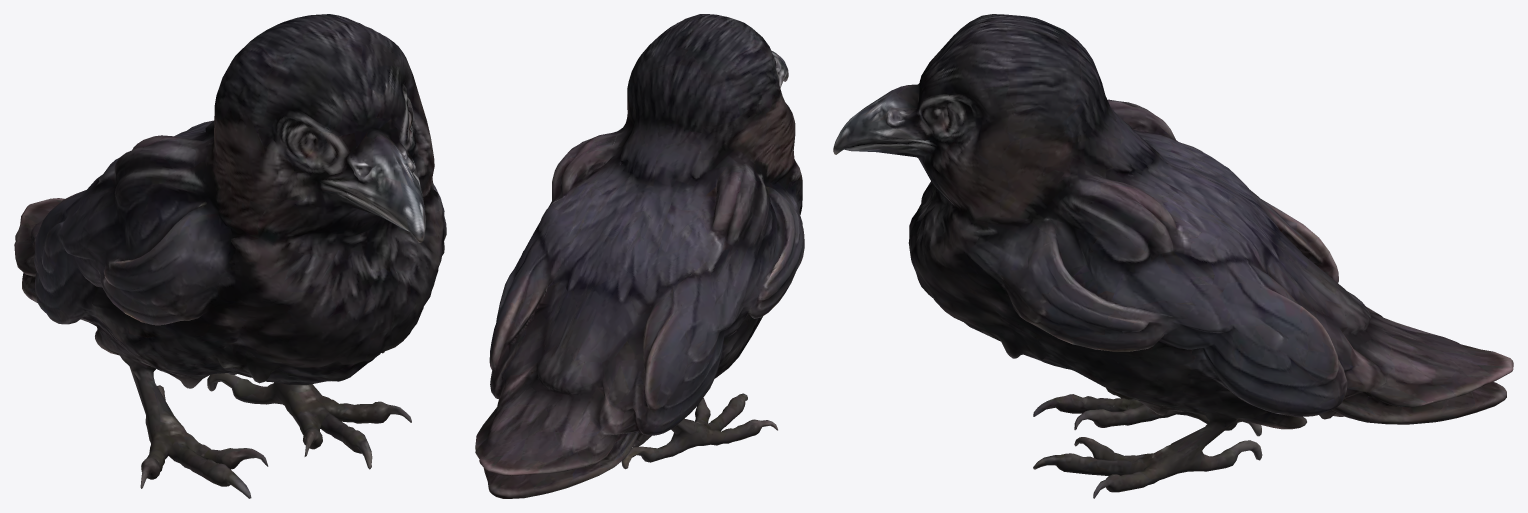
The model's file is animal-raaf-fledgling.glb.
The picture shows the model from 3 angles, left to right: view 1: azimuth 30°, elevation 25°; view 2: azimuth 150°, elevation 25°; view 3: azimuth 270°, elevation 25°; orthographic projection. The views are drawn at different scales.
Size of the model in its own units: 0.867 by 1.32 by 1.91.
1 material, 1 textured.
